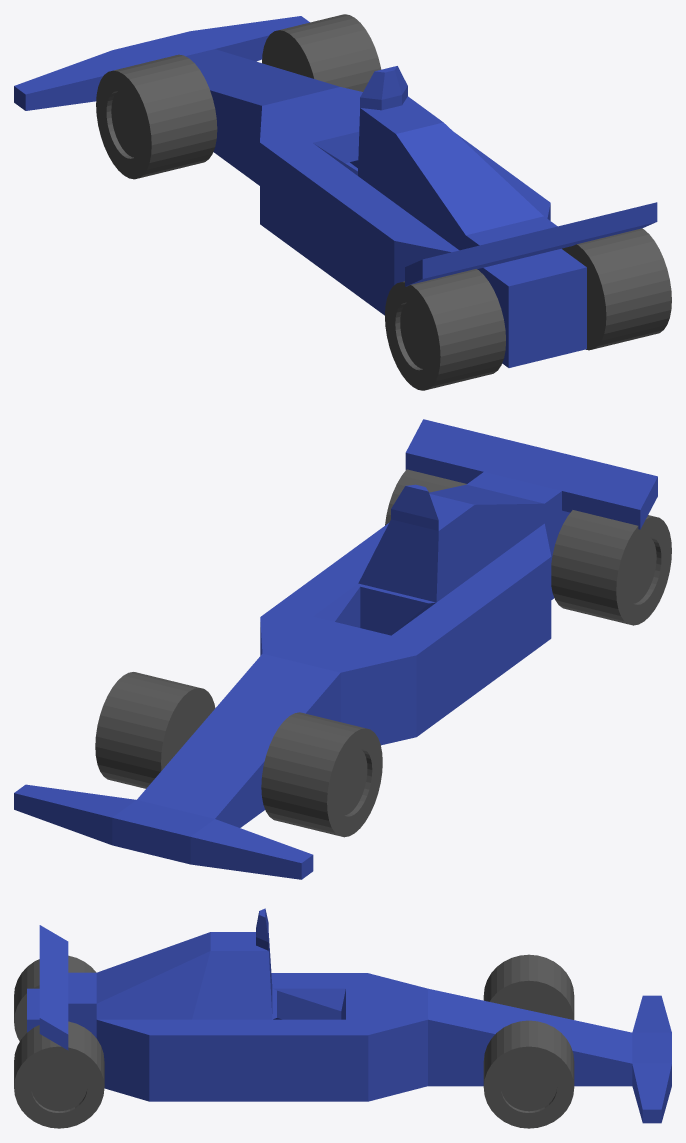
Rendered from formula_car.fbx.
The picture shows the model from 3 angles, top to bottom: view 1: azimuth 30°, elevation 25°; view 2: azimuth 150°, elevation 25°; view 3: azimuth 270°, elevation 25°; orthographic projection. The views are drawn at different scales.
Visible parts, largest first — view 1: Cube, Circle, Circle.003, Circle.002, Circle.001; view 2: Cube, Circle, Circle.003, Circle.001, Circle.002; view 3: Cube, Circle.001, Circle.002, Circle, Circle.003.
Part boxes in pixels (x1,y1,x2,y2): Cube: [14, 16, 657, 367]; Circle: [96, 54, 217, 179]; Circle.003: [385, 269, 505, 390]; Circle.002: [562, 228, 671, 350]; Circle.001: [262, 14, 381, 91]; Cube: [14, 419, 657, 879]; Circle: [261, 712, 382, 837]; Circle.003: [551, 510, 671, 625]; Circle.001: [95, 672, 215, 788]; Circle.002: [385, 469, 466, 525]; Cube: [27, 908, 671, 1123]; Circle.001: [483, 1020, 574, 1128]; Circle.002: [14, 1021, 104, 1128]; Circle: [483, 954, 574, 1019]; Circle.003: [14, 955, 96, 1041].
Size of the model in its own units: 735 by 492 by 1793.
